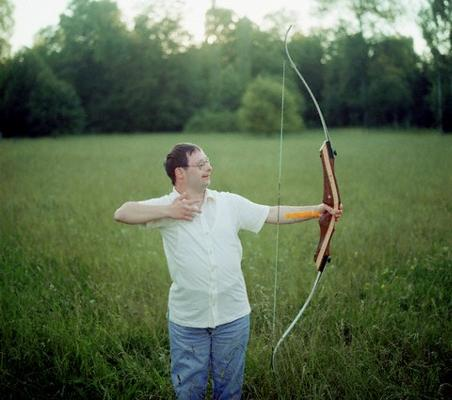person: (113, 142, 344, 400)
